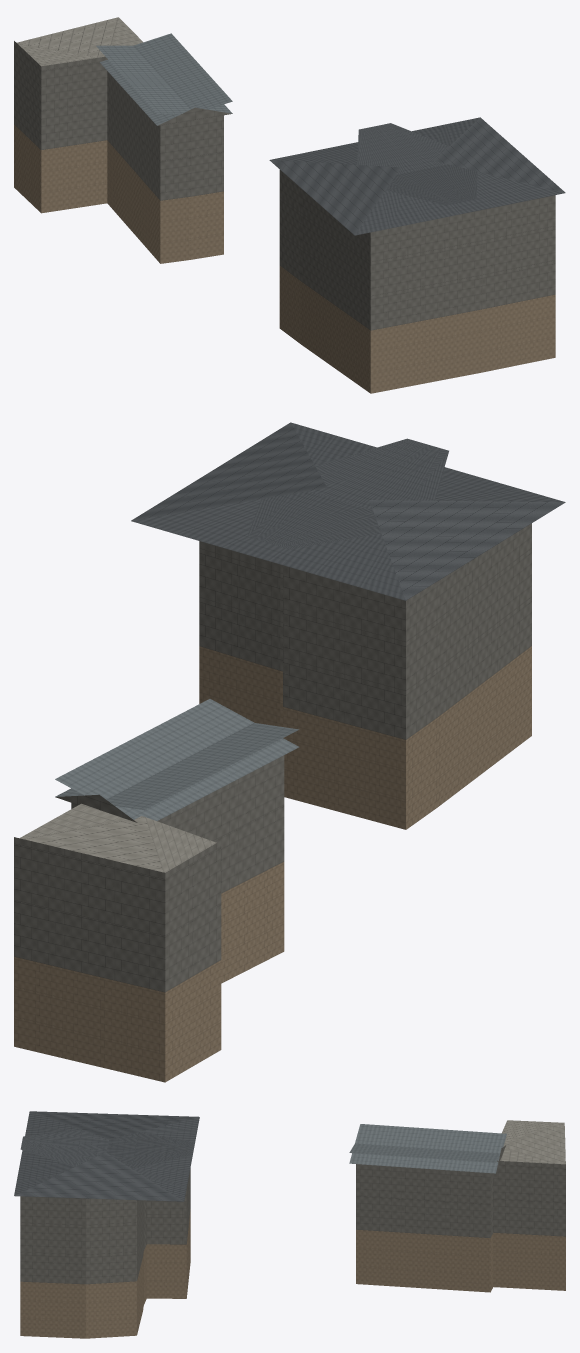
Rendered from bld_c35_-28_447.gltf.
3 renders of one model, top to bottom at view 1: azimuth 30°, elevation 25°; view 2: azimuth 150°, elevation 25°; view 3: azimuth 270°, elevation 25°, orthographic. The views are drawn at different scales.
Visible parts, largest first — view 1: bld_c35_-28_447; view 2: bld_c35_-28_447; view 3: bld_c35_-28_447.
Part boxes in pixels (box(x1,y1,x2,y2)): bld_c35_-28_447: box(14, 17, 565, 393); bld_c35_-28_447: box(14, 422, 565, 1082); bld_c35_-28_447: box(14, 1111, 565, 1338).
Bounding box in the file's own units: 21.26 × 14.9 × 46.97.
Materials: 6 (6 with a texture image).
